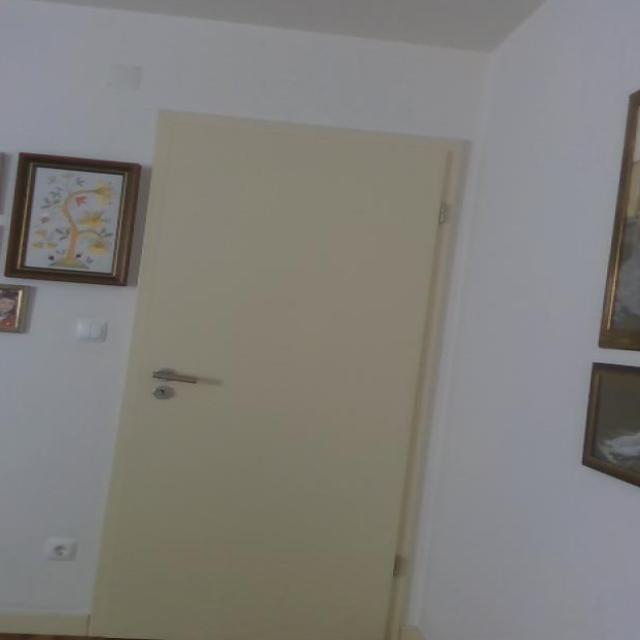door: (86, 107, 467, 639)
